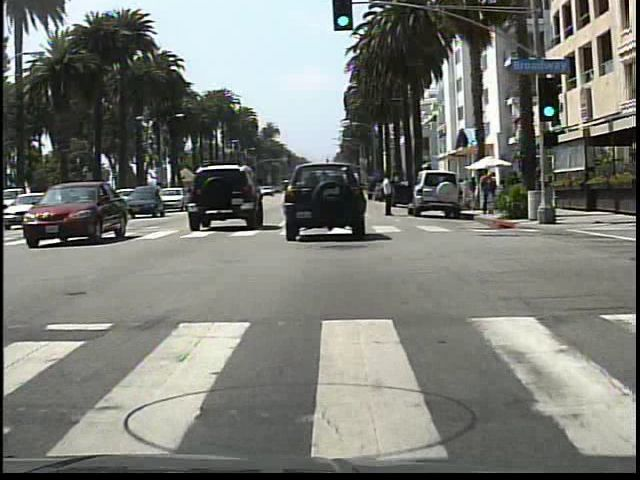person: (378, 168, 400, 221)
